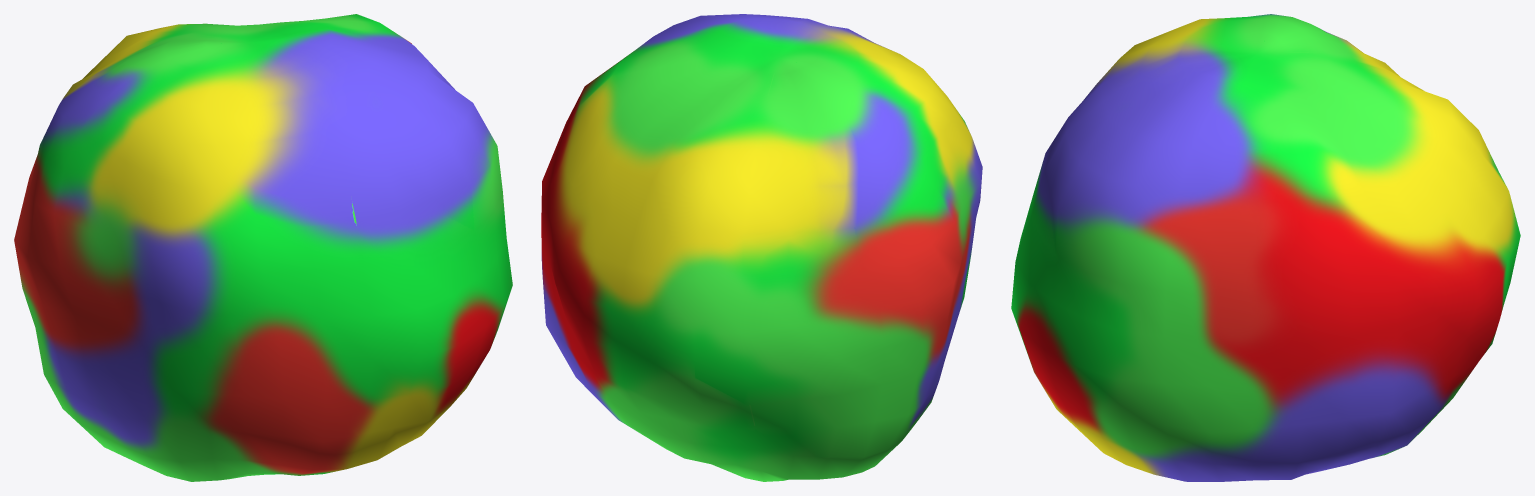
Rendered from klei.fbx.
3 views of the same model, side by side, from view 1: azimuth 30°, elevation 25°; view 2: azimuth 150°, elevation 25°; view 3: azimuth 270°, elevation 25° (orthographic). The views are drawn at different scales.
Visible parts, largest first — view 1: Sphere; view 2: Sphere; view 3: Sphere.
Part boxes in pixels (x1,y1,x2,y2): Sphere: (14, 14, 512, 481); Sphere: (541, 14, 982, 481); Sphere: (1011, 14, 1520, 481).
Bounding box in the file's own units: 183 × 174 × 196.
